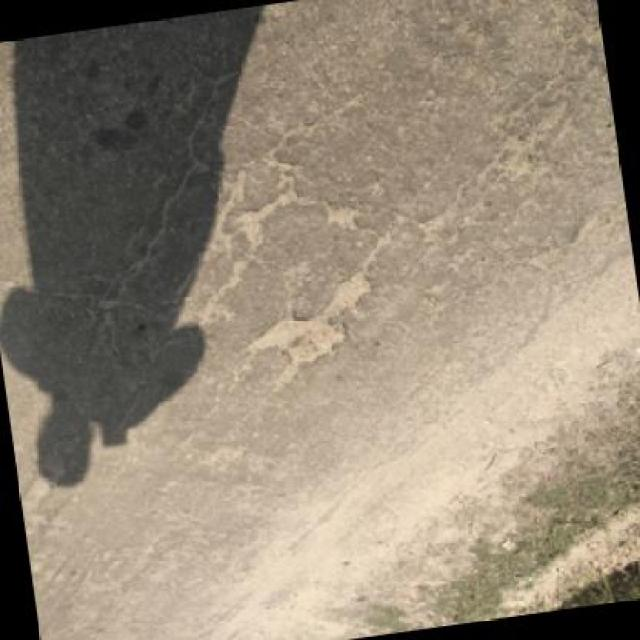pothole: (241, 268, 388, 387), (323, 198, 366, 236)
